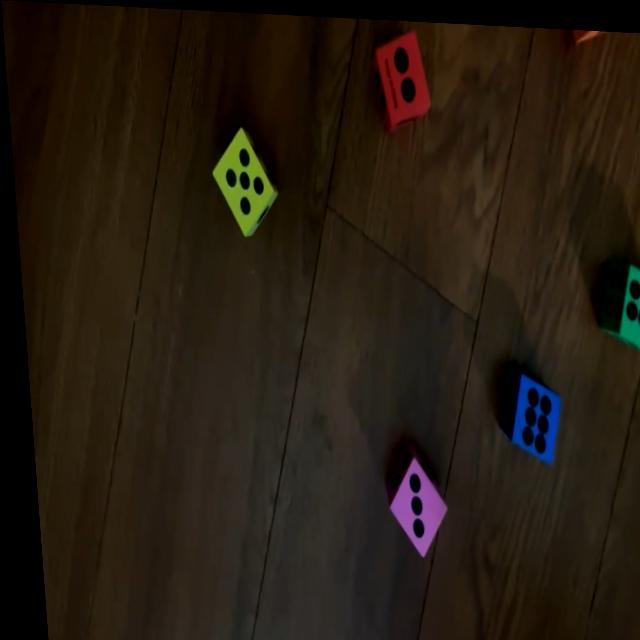cube: (489, 357, 561, 463), (370, 21, 433, 133), (592, 251, 640, 353)
